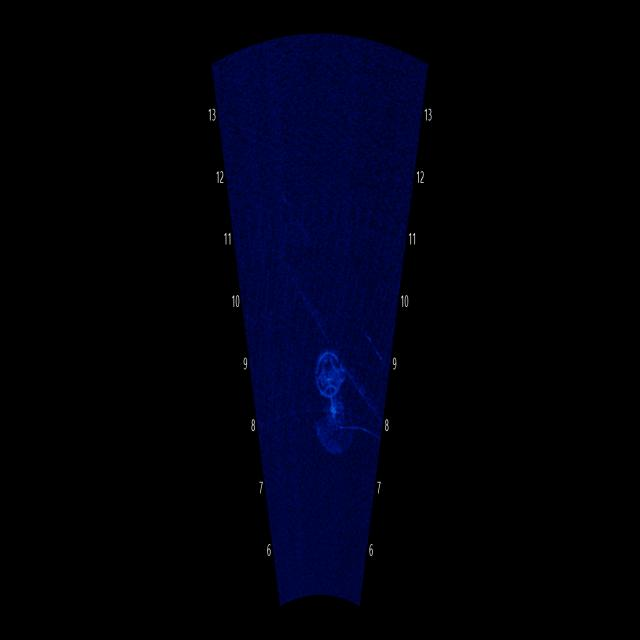circle: (306, 324, 353, 415)
